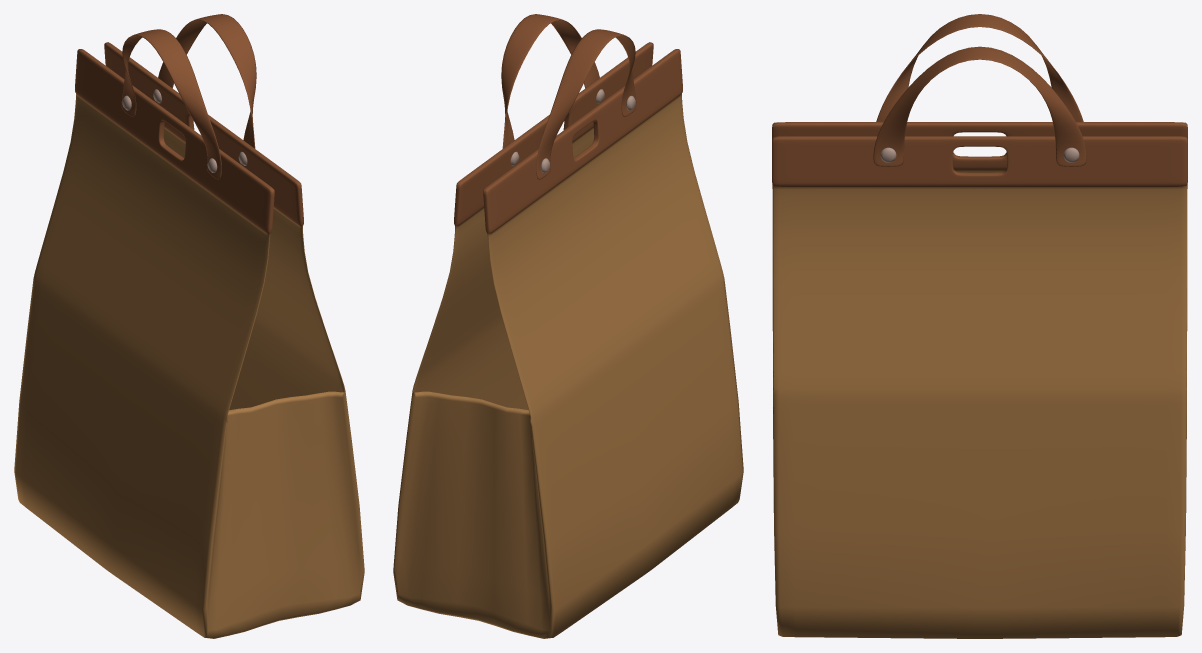
Rendered from uploads_files_4148792_Paper+Beg.fbx.
The picture shows the model from 3 angles, left to right: view 1: azimuth 30°, elevation 25°; view 2: azimuth 150°, elevation 25°; view 3: azimuth 270°, elevation 25°; orthographic projection. The views are drawn at different scales.
Visible parts, largest first — view 1: Gift Box.001; view 2: Gift Box.001; view 3: Gift Box.001.
Boxes of the visible parts, box(x1,y1,x2,y2) form: Gift Box.001: box(14, 14, 364, 638); Gift Box.001: box(393, 14, 743, 638); Gift Box.001: box(772, 14, 1187, 638).
Bounding box in the file's own units: 97.34 × 300 × 200.
